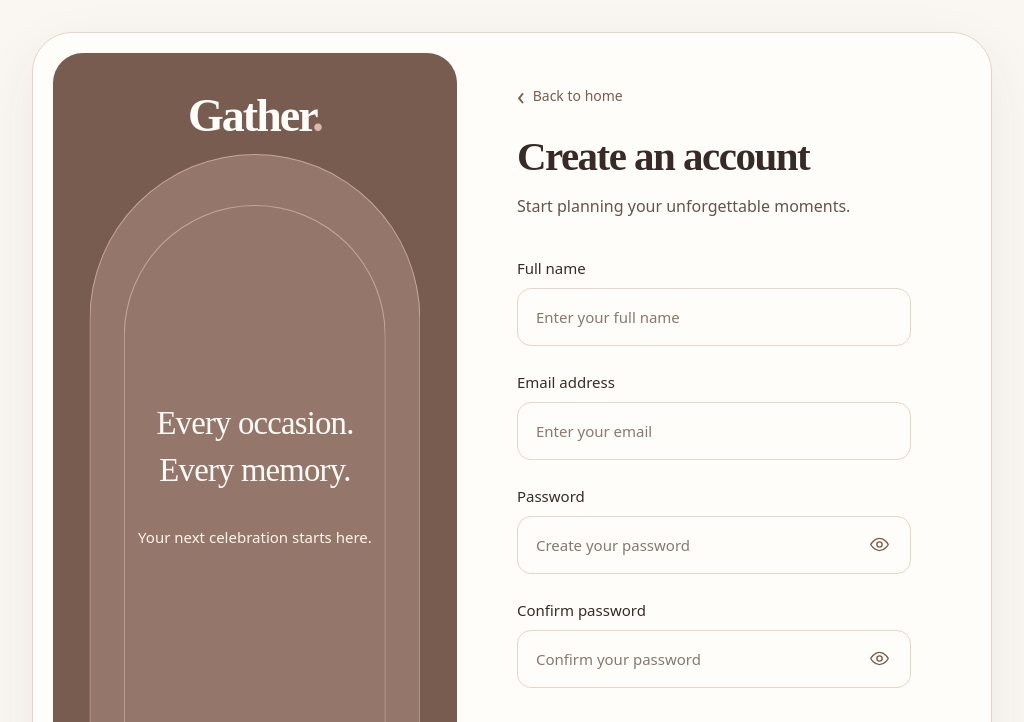
Test: Registration form › rejects passwords shorter than eight characters
The width and height of the screenshot is (1024, 722).
Type "Test User" into the field labelled "Full name" at (714, 317), box 517,288 -> 911,346
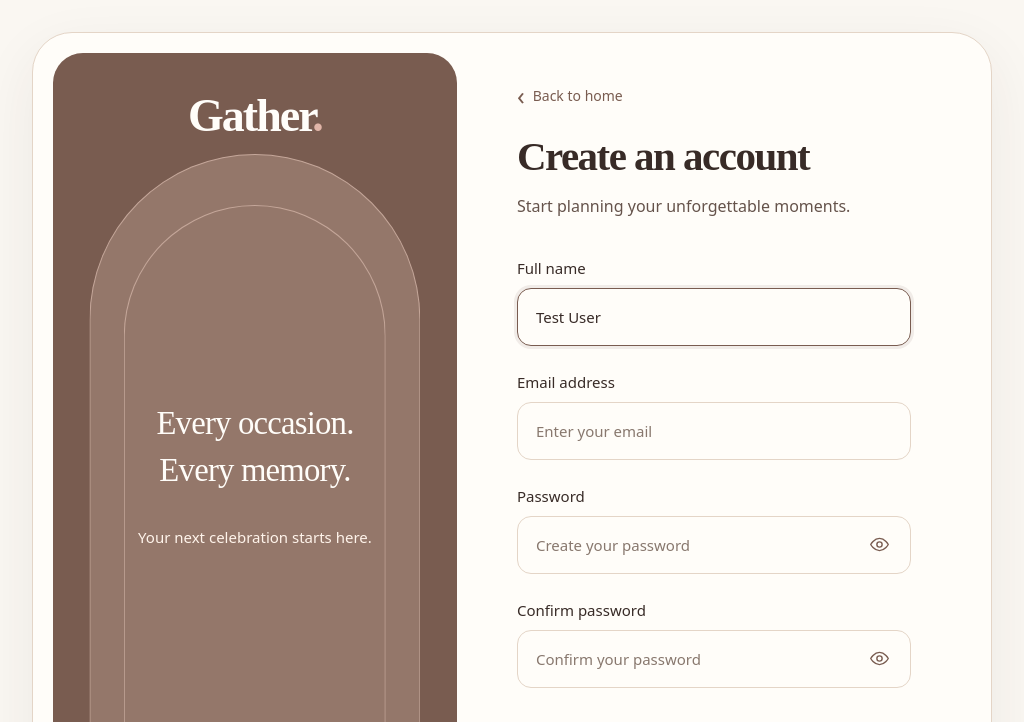
Type "test@example.com" into the field labelled "Email address" at (714, 431), box 517,402 -> 911,460
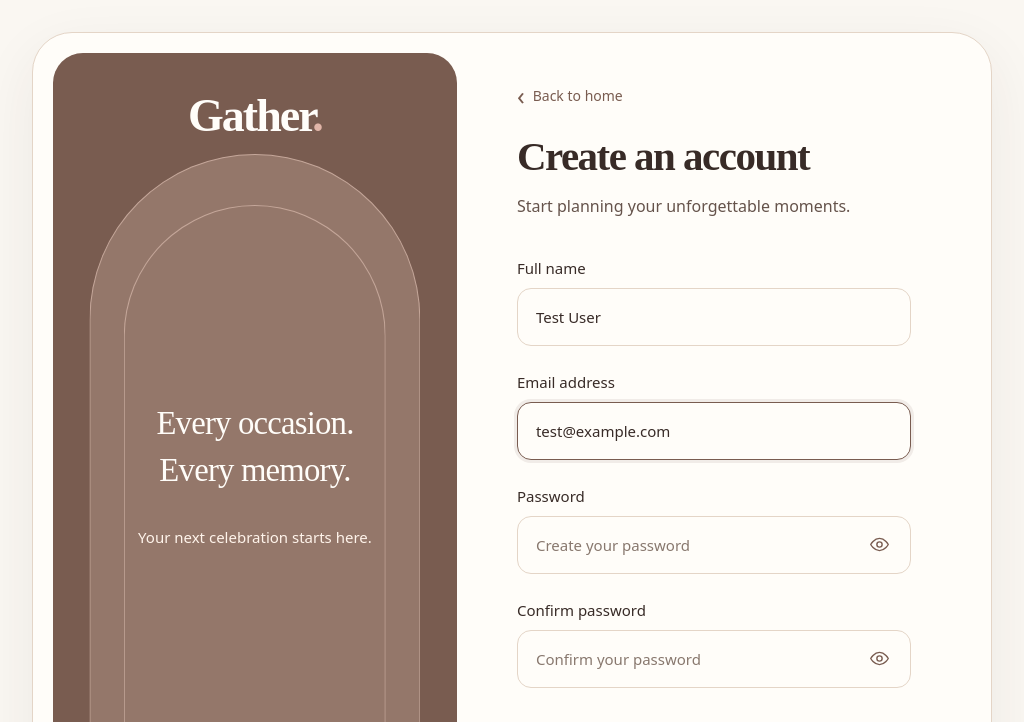
Type "Test123" into the password field labelled "Password" at (714, 545), box 517,516 -> 911,574
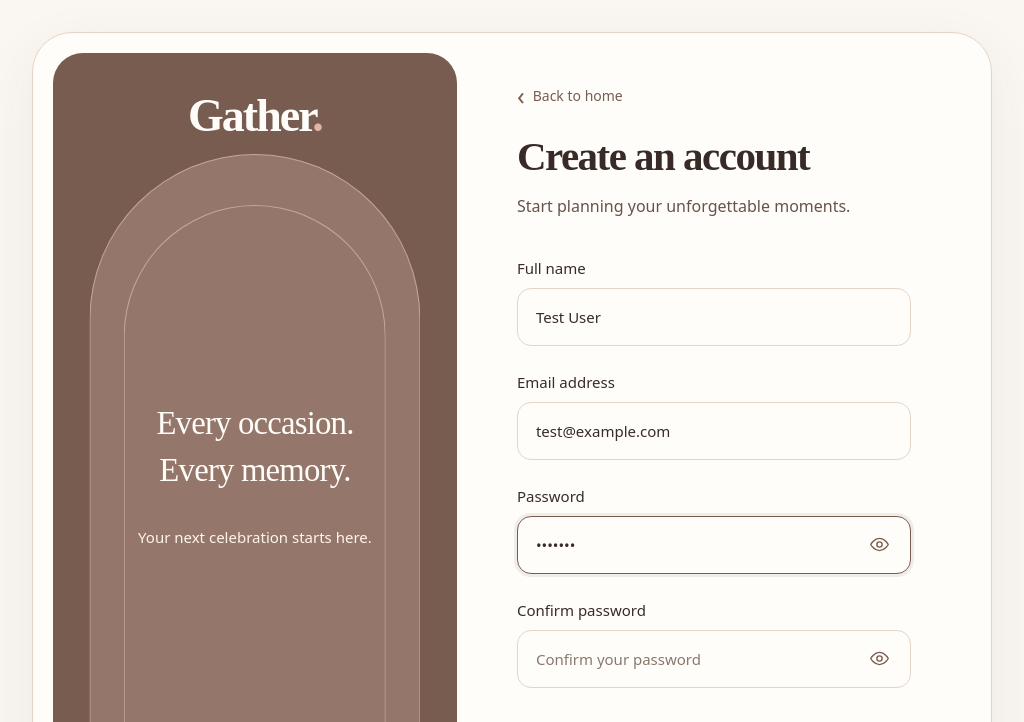
Type "Test123" into the password field labelled "Confirm password" at (714, 659), box 517,630 -> 911,688
(page scrolled)
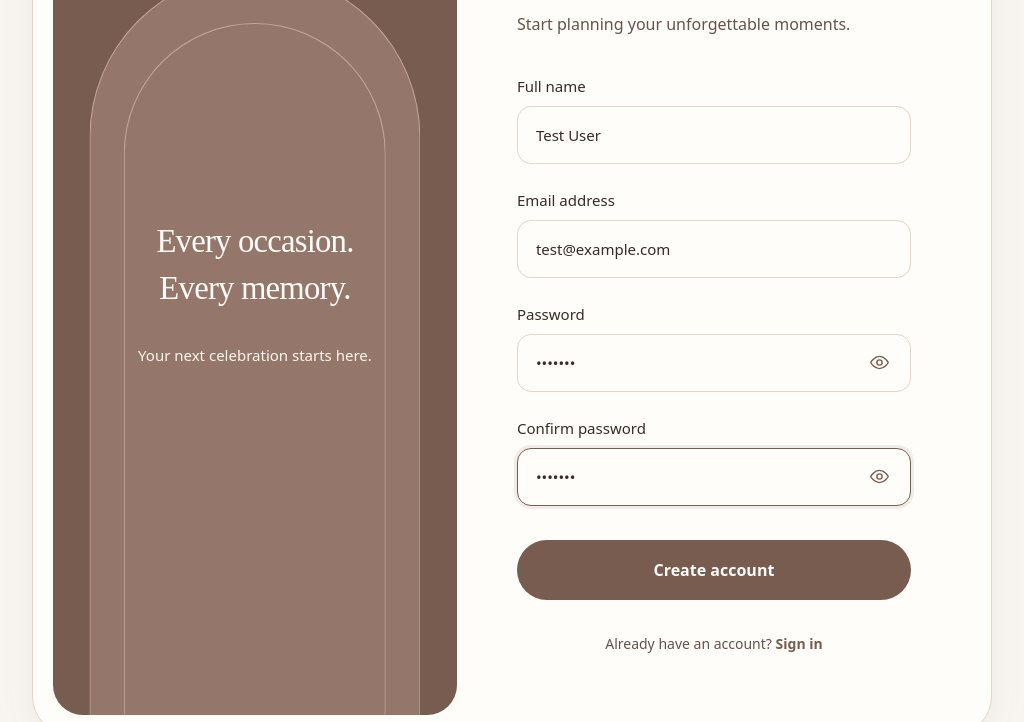
Click the button "Create account" at (714, 570), box 517,540 -> 911,600
(page scrolled)
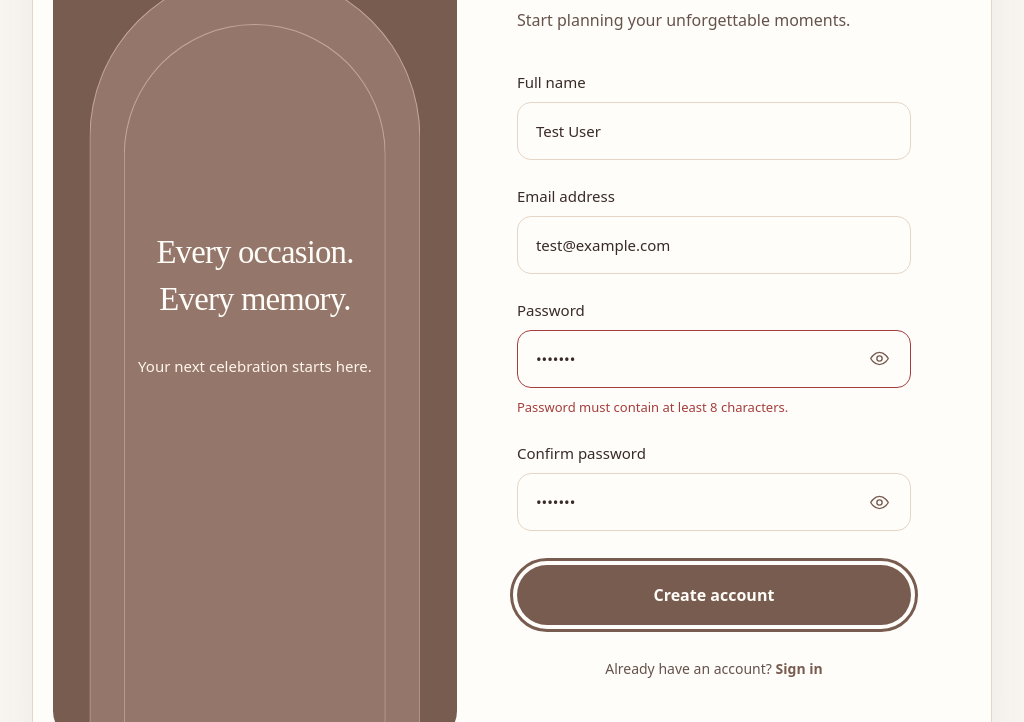
Expected: the text "Password must contain at least 8 characters." is shown, 517,398 -> 788,416
